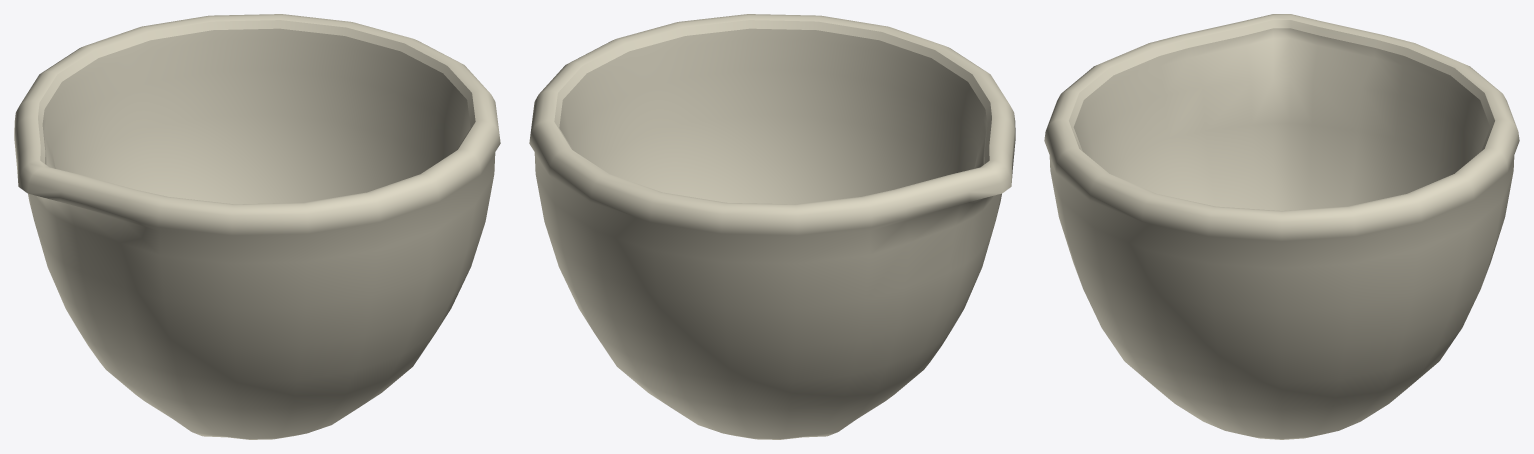
The model's file is crucible.gltf.
The picture shows the model from 3 angles, left to right: view 1: azimuth 30°, elevation 25°; view 2: azimuth 150°, elevation 25°; view 3: azimuth 270°, elevation 25°; orthographic projection. The views are drawn at different scales.
Visible parts, largest first — view 1: pSphere1; view 2: pSphere1; view 3: pSphere1.
Boxes of the visible parts, bbox=[...] form: pSphere1: bbox=[14, 14, 500, 439]; pSphere1: bbox=[529, 14, 1015, 439]; pSphere1: bbox=[1044, 14, 1519, 439].
Bounding box in the file's own units: 5.7 × 3.63 × 5.4.
